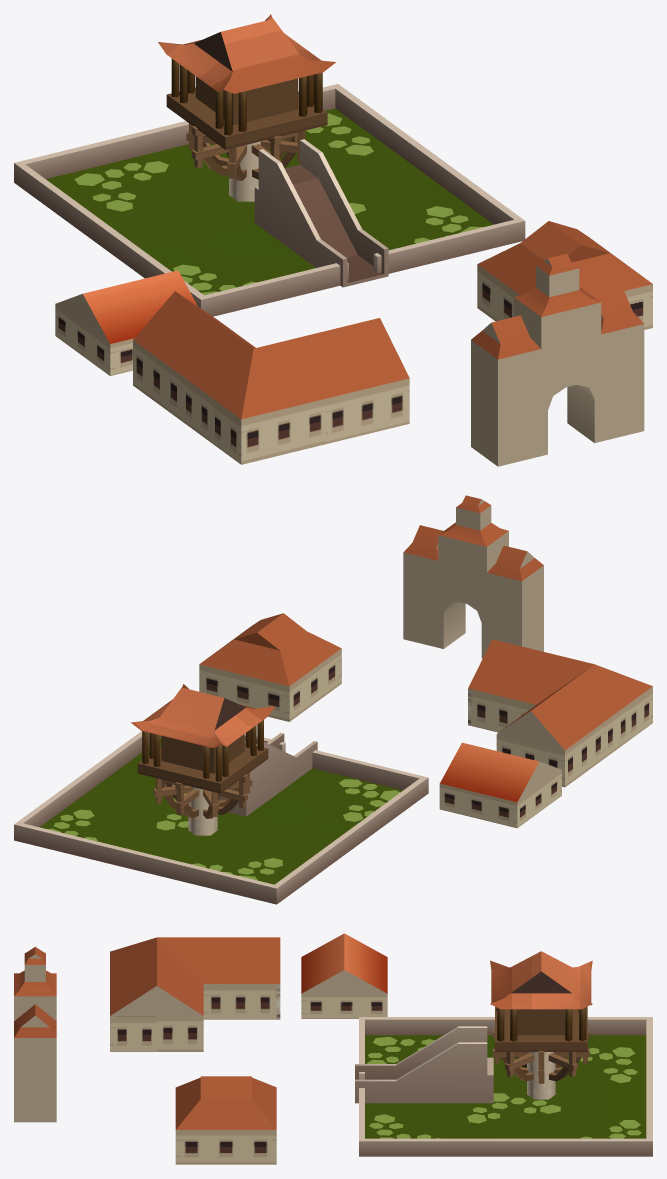
Rendered from SM_Building_OnePillarPagoda.fbx.
3 renders of one model, top to bottom at view 1: azimuth 30°, elevation 25°; view 2: azimuth 150°, elevation 25°; view 3: azimuth 270°, elevation 25°, orthographic. The views are drawn at different scales.
Visible parts, largest first — view 1: SM_Building_OnePillarPagoda_LOD0; view 2: SM_Building_OnePillarPagoda_LOD0; view 3: SM_Building_OnePillarPagoda_LOD0.
Part boxes in pixels (<box>): SM_Building_OnePillarPagoda_LOD0: <box>14,14,652,466</box>; SM_Building_OnePillarPagoda_LOD0: <box>14,495,652,904</box>; SM_Building_OnePillarPagoda_LOD0: <box>14,933,652,1164</box>.
Size of what is drawn, in the model's own units: 50.14 by 18.95 by 76.32.
